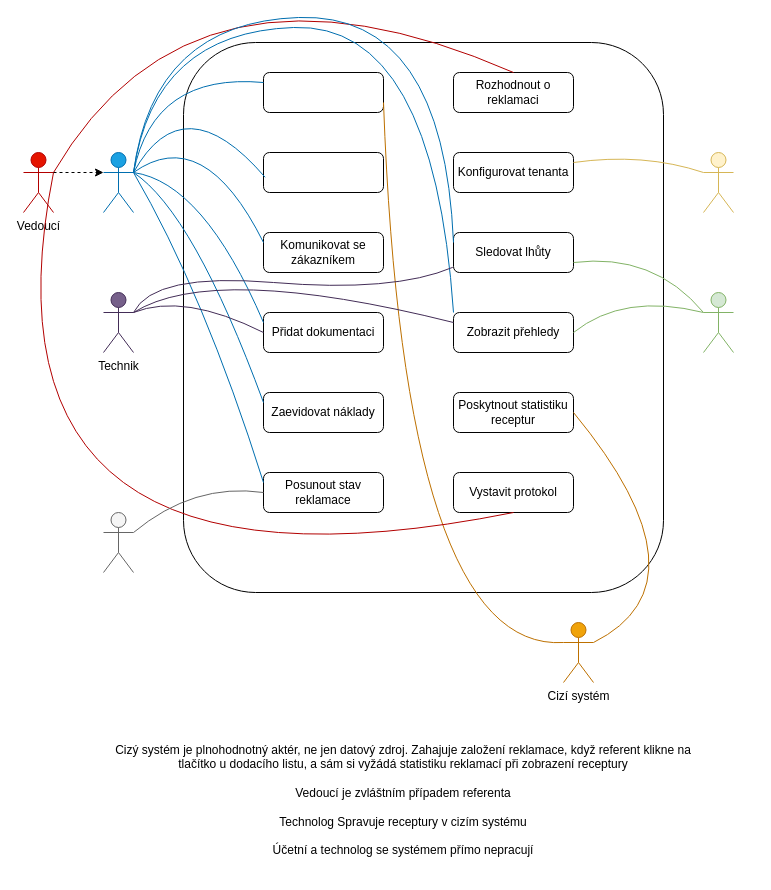
Some shapes in this 771 by 890 pixel diagram are drawn without their labels. The centre of each missing label's shape, as x and y in pixels:
Administrátor: the point at 718,182
Pouze čtení: the point at 718,322
Přiřadit dodací listy: the point at 323,172
Referent: the point at 118,182
Technolog: the point at 118,542
Založit reklamaci: the point at 323,92
